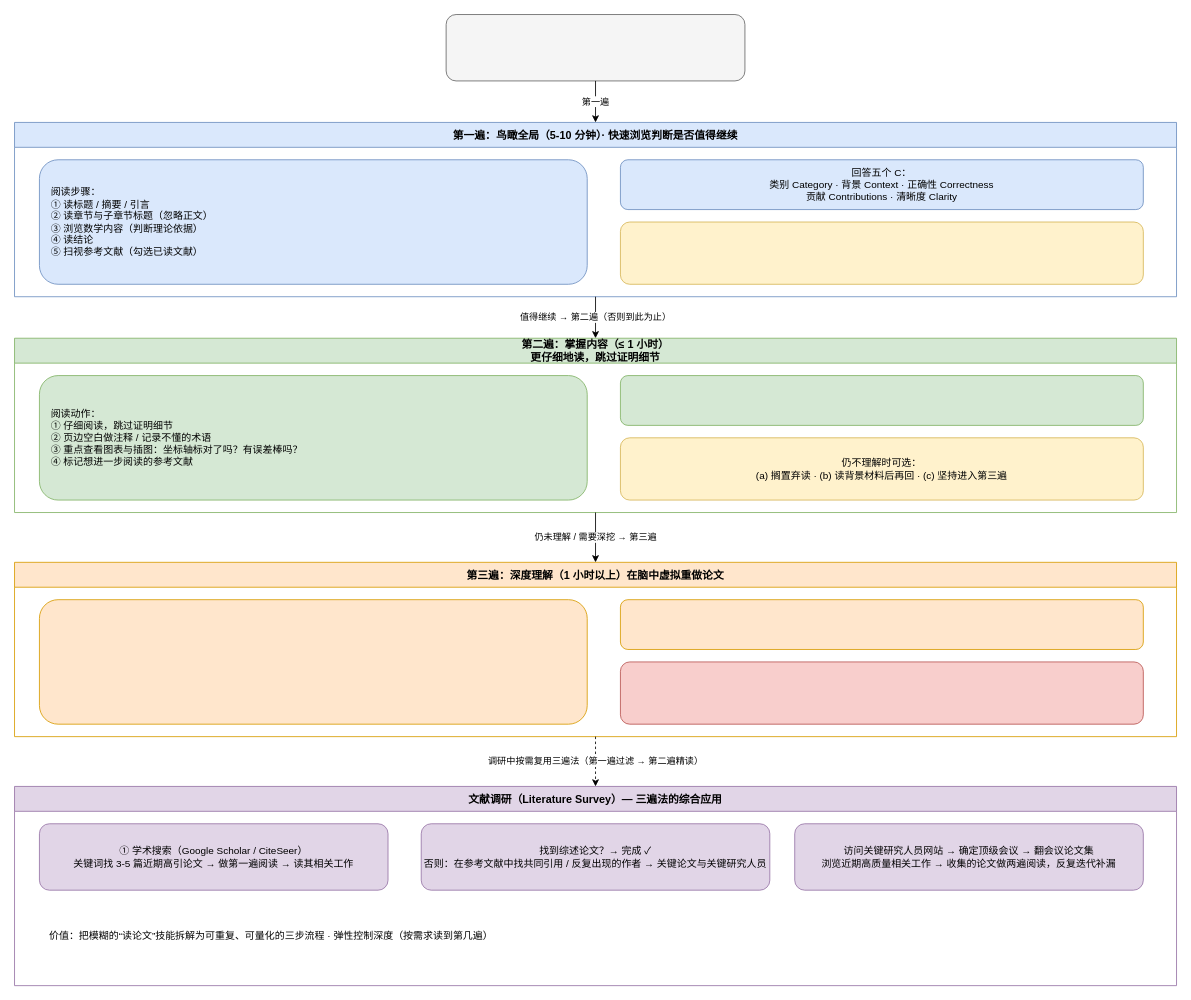
Some shapes in this 1191 by 1000 pixel diagram are drawn without their labels. Each missing label, with the centre of its shape:
产出：凭记忆重建论文完整结构 指出优点与缺点 · 隐含假设 · 引用缺失 · 实验/分析中的潜在问题: [881,624]
产出：掌握论文内容 能向他人总结论文的主旨及其支持证据: [881,400]
决策：不感兴趣 / 背景不足 / 假设不成立 → 就此停止（省时省纸） 不在研究领域但将来可能相关：第一遍即可: [881,252]
用途：审稿人完全理解论文 · 鉴别创新点与隐藏缺陷: [881,692]
研究论文（Paper） 标题 · 摘要 · 引言 · 章节标题 · 数学 · 结论 · 参考文献: [595,47]
阅读动作： ① 虚拟重做：以作者相同假设重新实现论文 ② 识别并质疑每一个陈述与假设 ③ 思考“如果我来写，我会怎么表达？” ④ 记录对未来工作的想法: [313,661]
